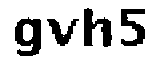5: (119, 7, 149, 48)
g: (10, 16, 43, 60)
h: (81, 5, 114, 51)
v: (47, 15, 76, 48)
